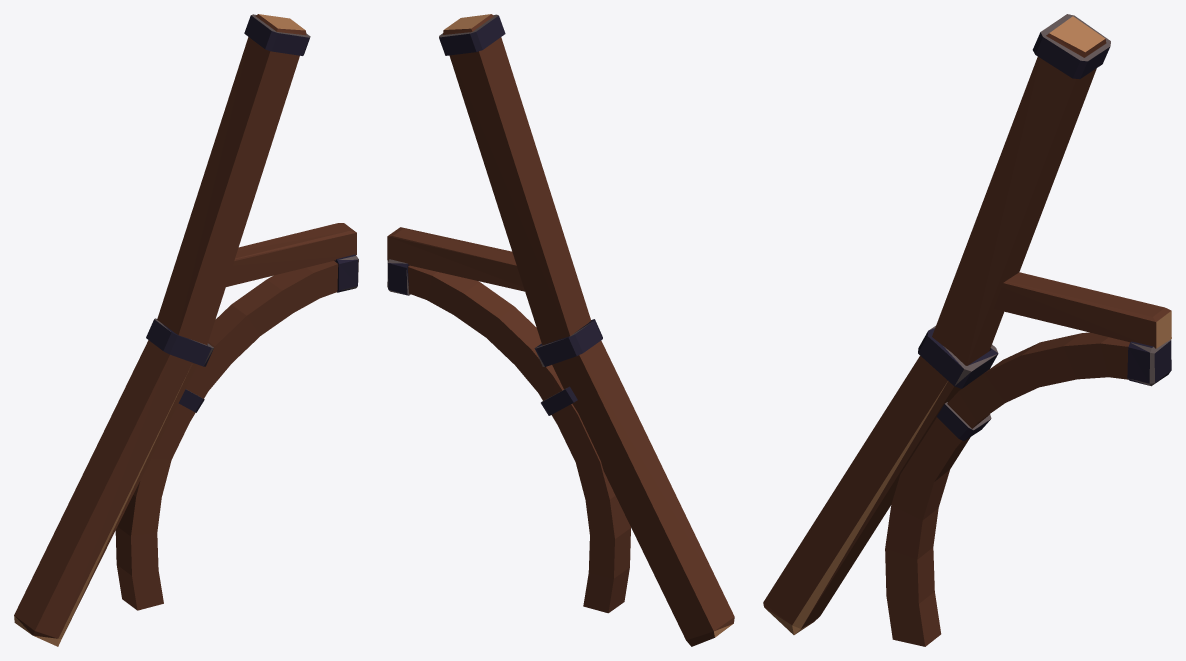
File: MCastle_InteriorSupports_01.FBX
3 views of the same model, side by side, from view 1: azimuth 30°, elevation 25°; view 2: azimuth 150°, elevation 25°; view 3: azimuth 330°, elevation 25° (orthographic). The views are drawn at different scales.
Visible parts, largest first — view 1: MCastle_InteriorSupports_01_LOD0; view 2: MCastle_InteriorSupports_01_LOD0; view 3: MCastle_InteriorSupports_01_LOD0.
Boxes of the visible parts, left/top/right/bottom form: MCastle_InteriorSupports_01_LOD0: left=14, top=14, right=358, bottom=646; MCastle_InteriorSupports_01_LOD0: left=387, top=14, right=734, bottom=646; MCastle_InteriorSupports_01_LOD0: left=763, top=14, right=1171, bottom=646.
Size of what is drawn, in the model's own units: 213 by 350 by 29.3.
